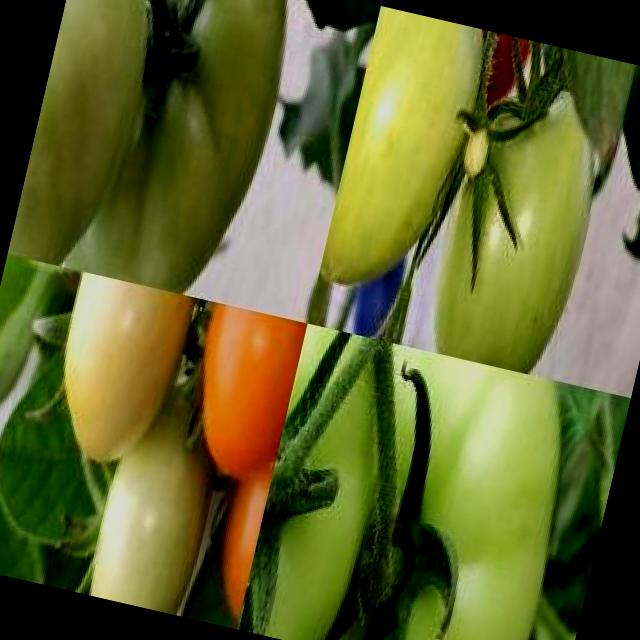Fresh_Tomato: (178, 339, 300, 629), (166, 300, 307, 504)
